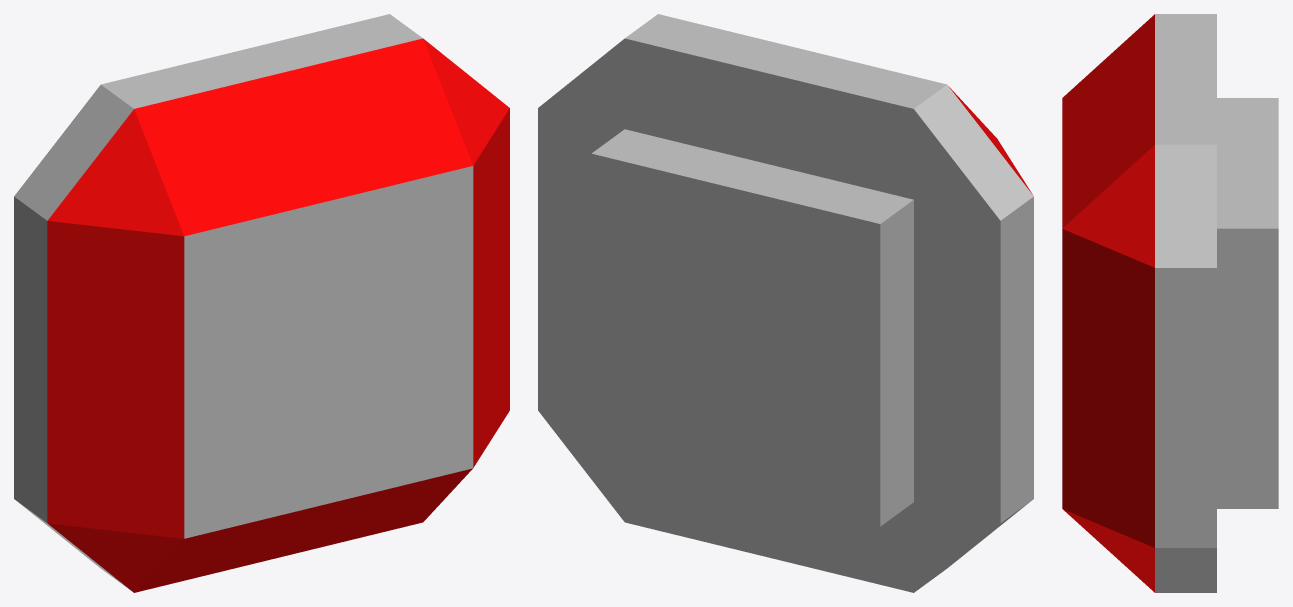
The model's file is conec.fbx.
3 views of the same model, side by side, from view 1: azimuth 30°, elevation 25°; view 2: azimuth 150°, elevation 25°; view 3: azimuth 270°, elevation 25° (orthographic). The views are drawn at different scales.
Visible parts, largest first — view 1: conec; view 2: conec; view 3: conec.
Part boxes in pixels (box(x1,y1,x2,y2)): conec: box(14, 14, 509, 592); conec: box(538, 14, 1033, 592); conec: box(1062, 14, 1278, 592).
Bounding box in the file's own units: 1600 × 1600 × 700.
